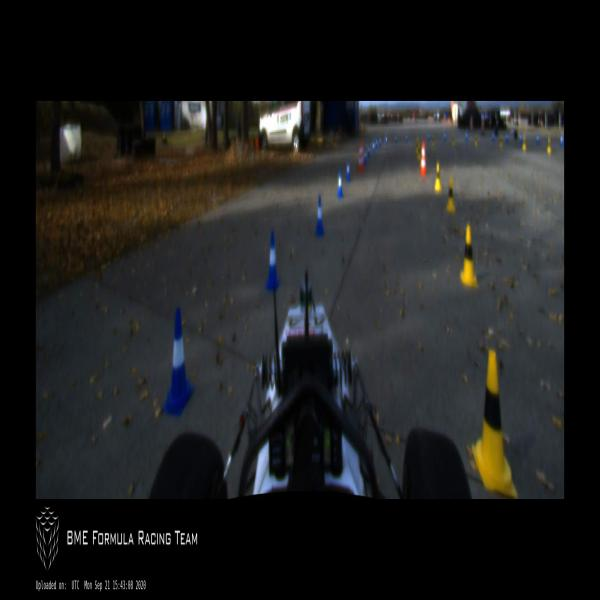blue_cone: (162, 308, 193, 417), (265, 232, 280, 289), (315, 197, 325, 236), (337, 170, 344, 197), (346, 158, 350, 182), (559, 132, 563, 146), (372, 138, 375, 154), (536, 132, 539, 146), (375, 136, 378, 149), (384, 133, 387, 146), (443, 130, 446, 143), (492, 130, 495, 143), (506, 133, 509, 145), (405, 132, 408, 143), (364, 148, 366, 164), (394, 132, 397, 142), (465, 132, 468, 142), (427, 132, 430, 141), (368, 144, 370, 157), (379, 135, 381, 147), (520, 131, 522, 143)
large_orange_cone: (420, 140, 427, 176), (357, 140, 363, 174)
yellow_cone: (472, 348, 518, 498), (459, 225, 477, 288), (446, 177, 455, 212), (434, 162, 441, 190), (547, 134, 552, 154), (522, 133, 526, 151), (417, 143, 421, 161), (415, 137, 419, 153), (451, 132, 455, 146), (499, 134, 503, 147), (431, 134, 434, 147), (475, 135, 477, 147)
